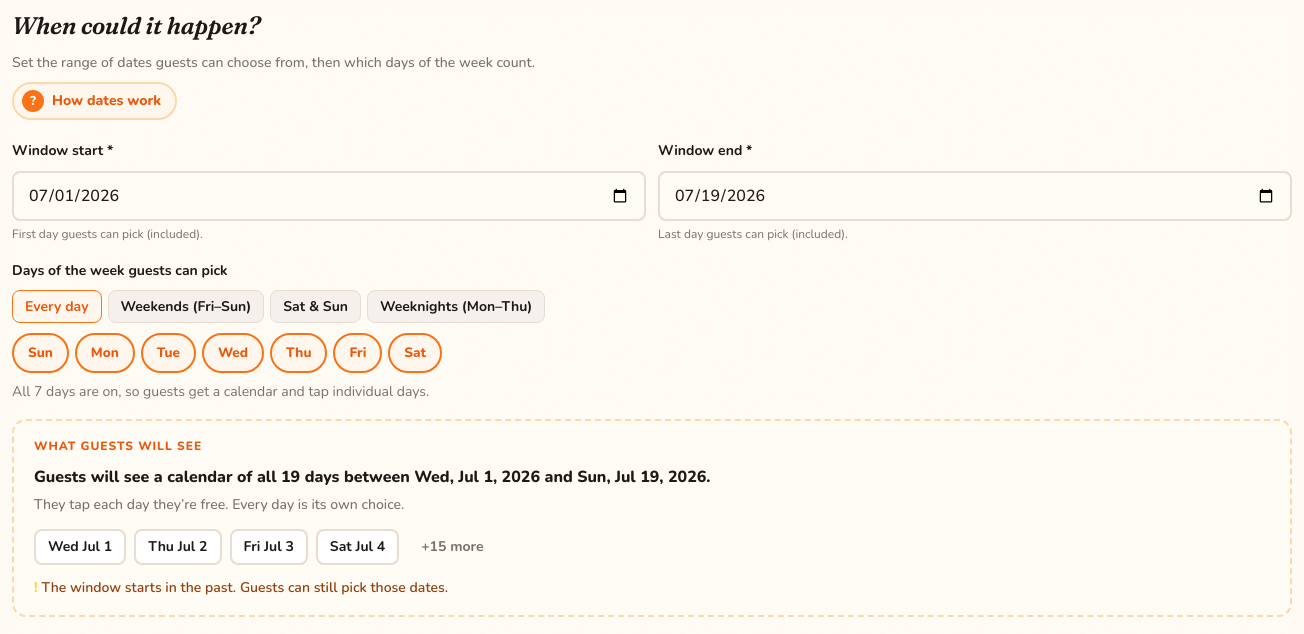
Test: DateWindowFields › the Fri–Sun preset switches the preview to one-tap weekend blocks and says what is hidden
The image size is (1304, 634).
Click the button "Weekends (Fri–Sun)" at (186, 307), box [108,290,264,323]
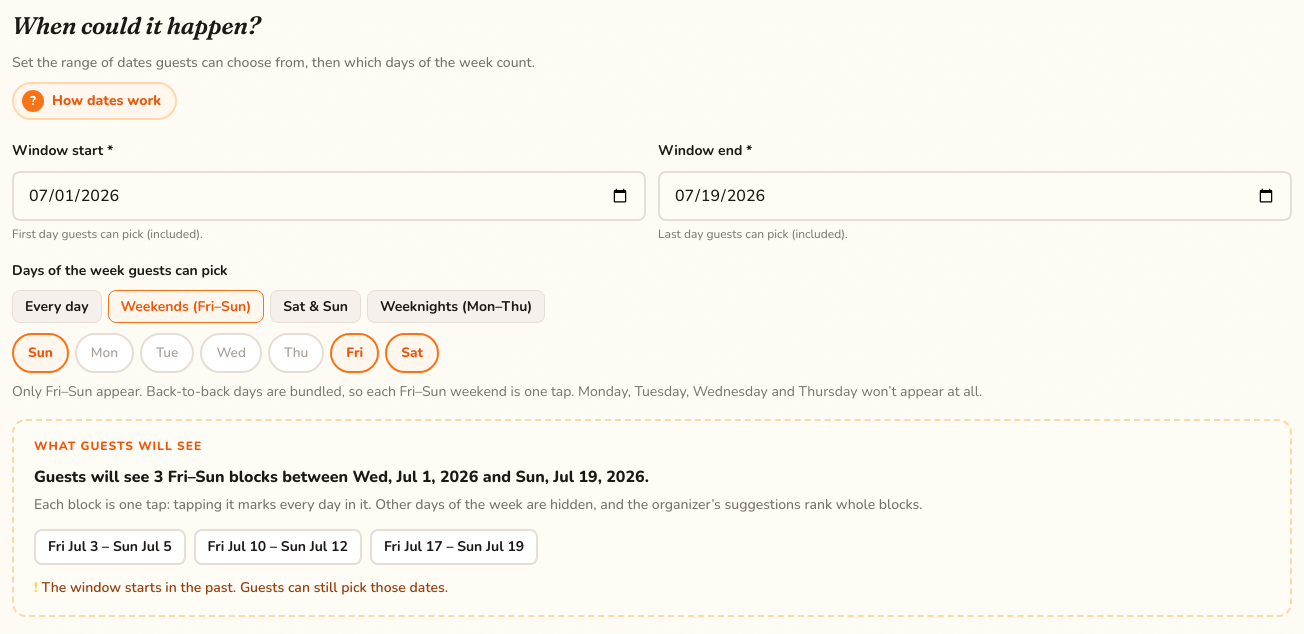
Result: the element that starts with "What guests will see" shows "Guests will see 3 Fri–Sun blocks" at [34,466,649,488]
Result: the text "Monday, Tuesday, Wednesday and Thursday won’t appear at all" is shown at [12,382,982,401]
Result: the text "Fri Jul 3 – Sun Jul 5" is shown at [34,529,186,565]
